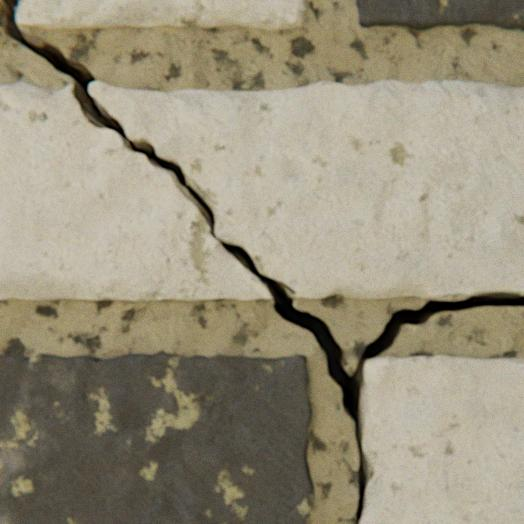brick: (0, 352, 313, 523), (359, 355, 523, 523), (356, 0, 523, 31)
broken_brick: (89, 81, 523, 298), (0, 83, 272, 301), (15, 0, 305, 32)
crack: (0, 0, 523, 522)
